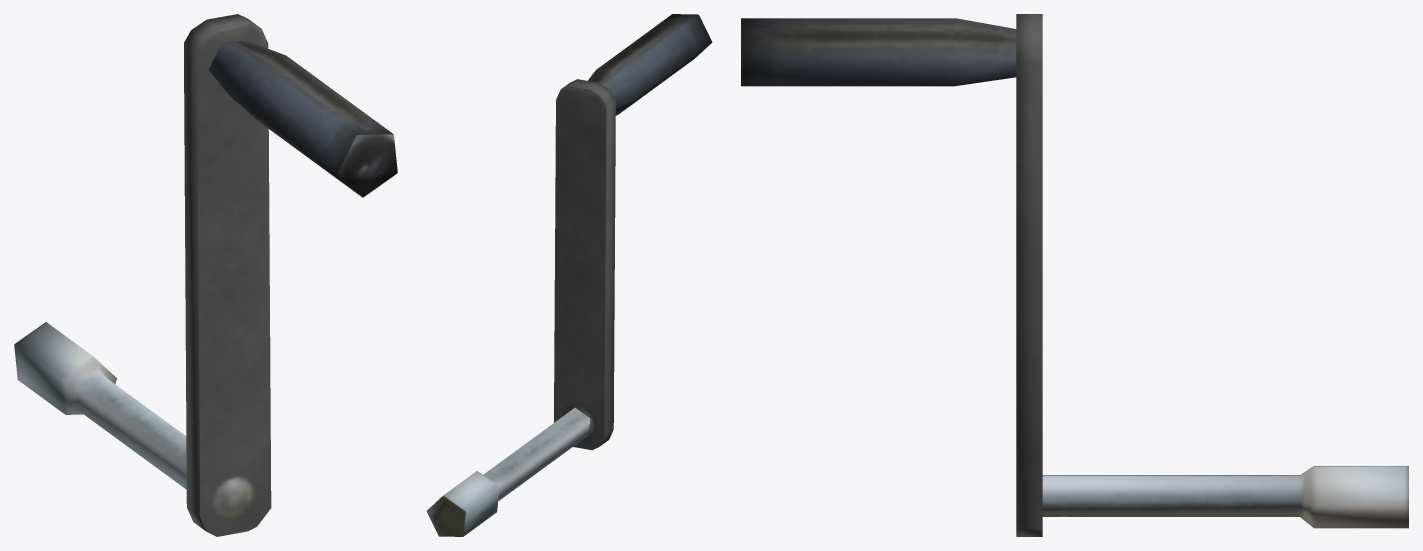
File: Crank.fbx
3 renders of one model, left to right at view 1: azimuth 30°, elevation 25°; view 2: azimuth 150°, elevation 25°; view 3: azimuth 270°, elevation 25°, orthographic. The views are drawn at different scales.
Parts seen in each view (by area): view 1: CrankLow; view 2: CrankLow; view 3: CrankLow.
Boxes of the visible parts, box(x1,y1,x2,y2) form: CrankLow: box(14, 14, 397, 536); CrankLow: box(426, 14, 712, 536); CrankLow: box(741, 14, 1408, 536).
Bounding box in the file's own units: 0.1455 × 0.9542 × 1.14.
